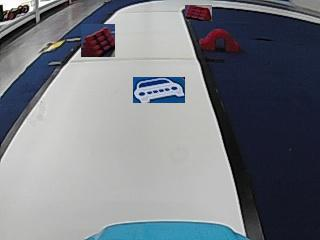bridge: (199, 28, 240, 51)
